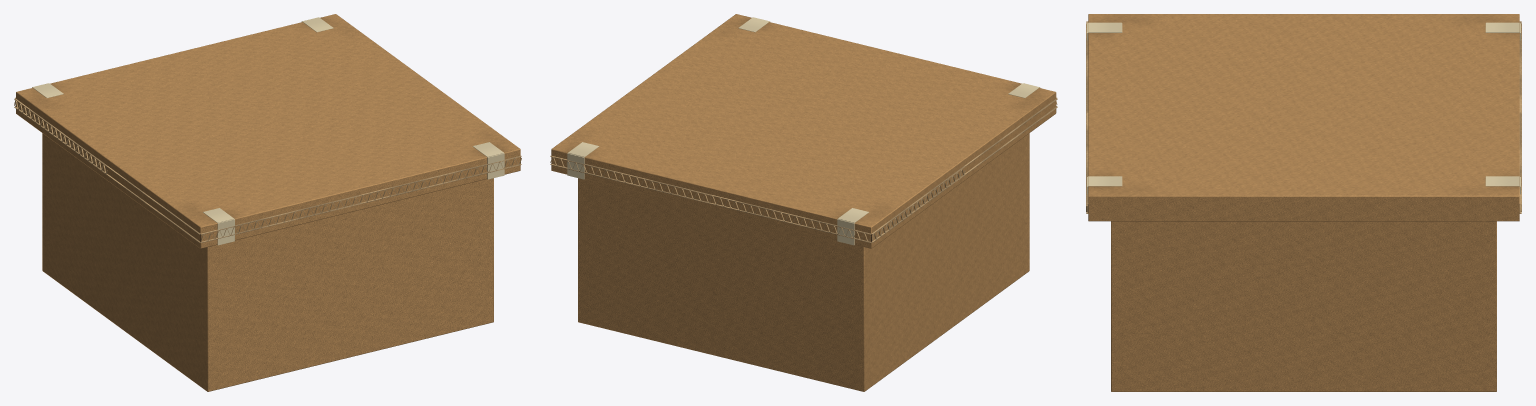
File: 1-lower-cardboard-room-and-toy-feet-1.fbx
The picture shows the model from 3 angles, left to right: view 1: azimuth 30°, elevation 25°; view 2: azimuth 150°, elevation 25°; view 3: azimuth 270°, elevation 25°; orthographic projection. The views are drawn at different scales.
Visible parts, largest first — view 1: lower-cardboard-room-and-toy-feet-1; view 2: lower-cardboard-room-and-toy-feet-1; view 3: lower-cardboard-room-and-toy-feet-1.
Boxes of the visible parts, <box> form: lower-cardboard-room-and-toy-feet-1: <box>14,14,521,391</box>; lower-cardboard-room-and-toy-feet-1: <box>550,14,1057,391</box>; lower-cardboard-room-and-toy-feet-1: <box>1086,14,1521,391</box>.
Size of the model in its own units: 7636 by 4009 by 7672.
Materials: 1 (1 with a texture image).
